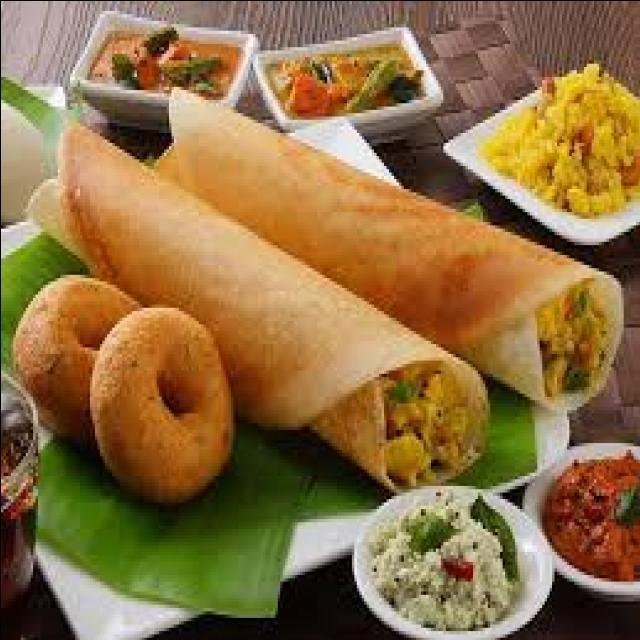dal: (493, 54, 639, 228), (256, 27, 414, 136)
dosa: (17, 254, 255, 504)
sambar-rasam: (76, 0, 250, 129)
sweet: (363, 471, 545, 638)
veg-fry: (354, 478, 542, 635), (493, 53, 637, 238), (543, 450, 640, 585)
